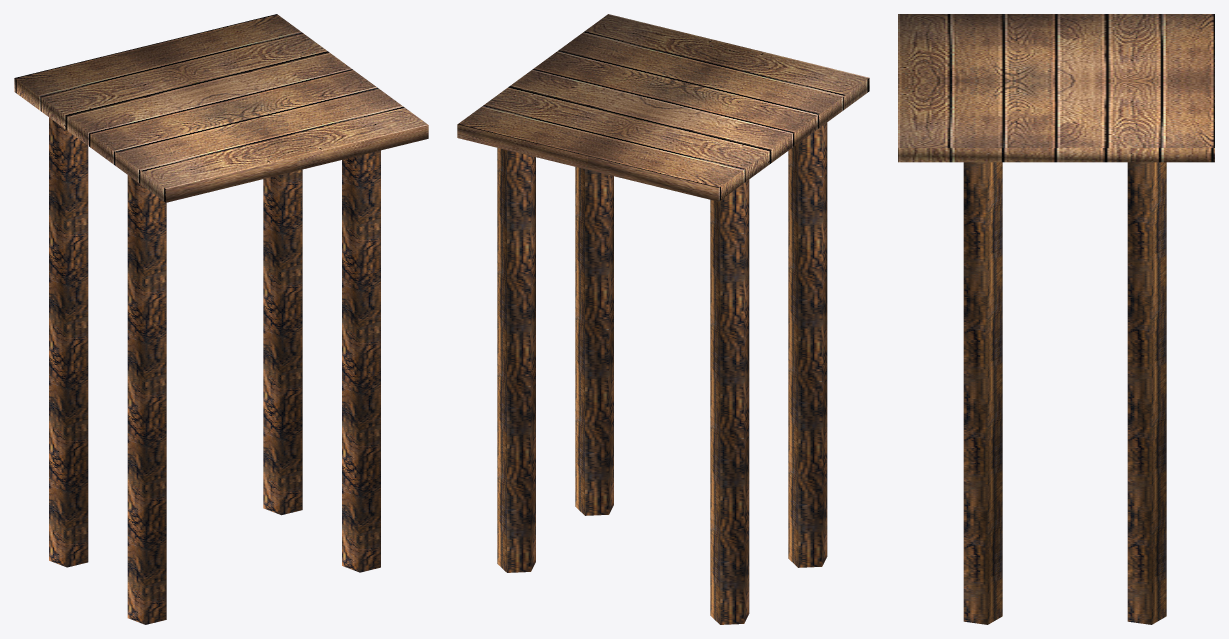
File: dock_base.fbx
3 renders of one model, left to right at view 1: azimuth 30°, elevation 25°; view 2: azimuth 150°, elevation 25°; view 3: azimuth 270°, elevation 25°, orthographic. The views are drawn at different scales.
Visible parts, largest first — view 1: dock_base; view 2: dock_base; view 3: dock_base.
Part boxes in pixels (box(x1,y1,x2,y2)): dock_base: box(14, 14, 428, 624); dock_base: box(457, 14, 869, 624); dock_base: box(898, 14, 1214, 624).
Bounding box in the file's own units: 400 × 672 × 400.
